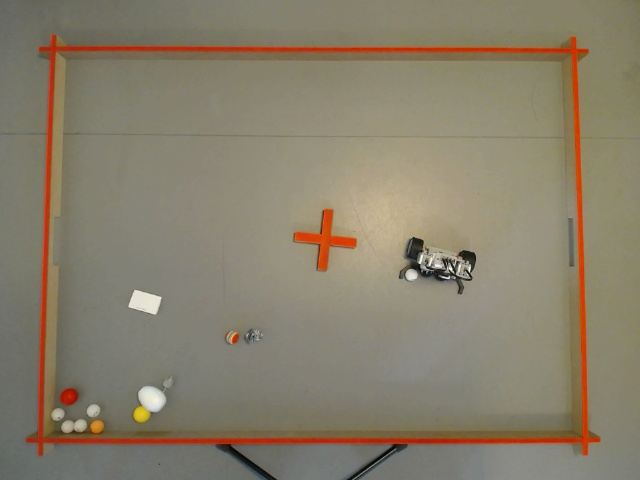big_goal: (44, 212, 60, 266), (566, 215, 582, 266)
cross: (296, 210, 357, 270)
egg: (138, 387, 164, 411)
orange: (90, 420, 102, 432)
robot: (400, 237, 475, 297)
wall: (36, 35, 66, 455), (561, 35, 590, 456), (40, 45, 588, 63), (24, 429, 600, 444)
white: (86, 405, 98, 416), (406, 270, 417, 281), (52, 410, 62, 420), (77, 420, 88, 429), (62, 420, 72, 429)
